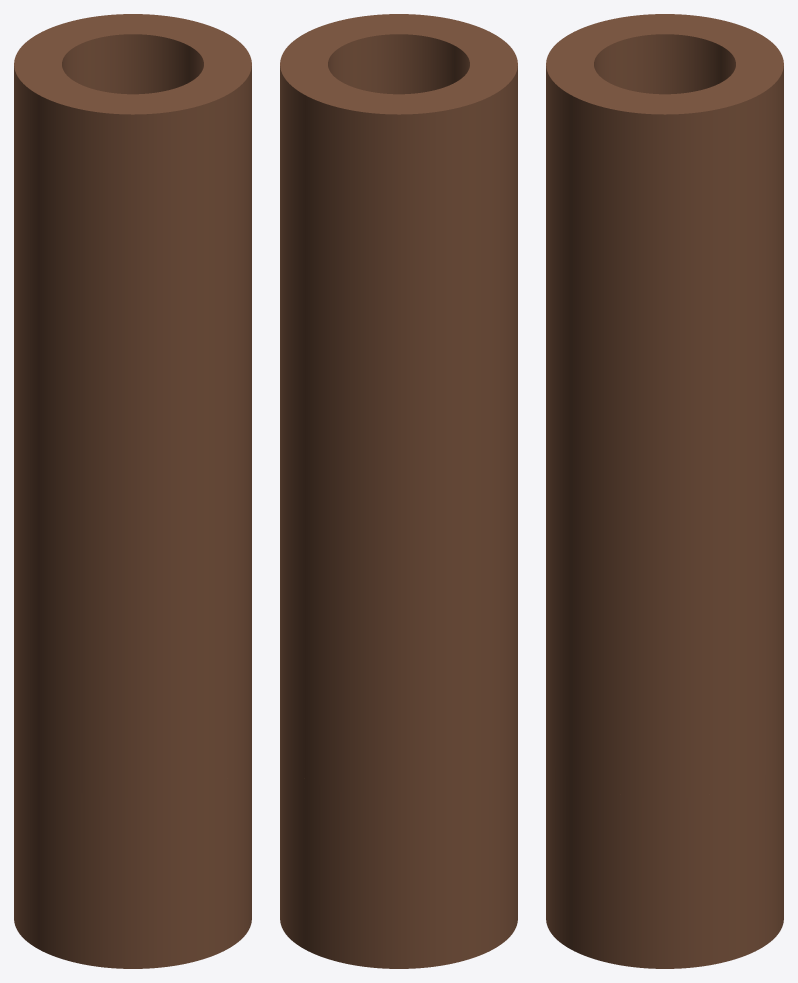
Rendered from hook_holder.glb.
The picture shows the model from 3 angles, left to right: view 1: azimuth 30°, elevation 25°; view 2: azimuth 150°, elevation 25°; view 3: azimuth 270°, elevation 25°; orthographic projection.
Parts seen in each view (by area): view 1: Cylinder; view 2: Cylinder; view 3: Cylinder.
Part boxes in pixels (x1,y1,x2,y2): Cylinder: (14, 14, 251, 968); Cylinder: (280, 14, 517, 968); Cylinder: (546, 14, 783, 968).
Bounding box in the file's own units: 1.99 × 7.88 × 1.99.
